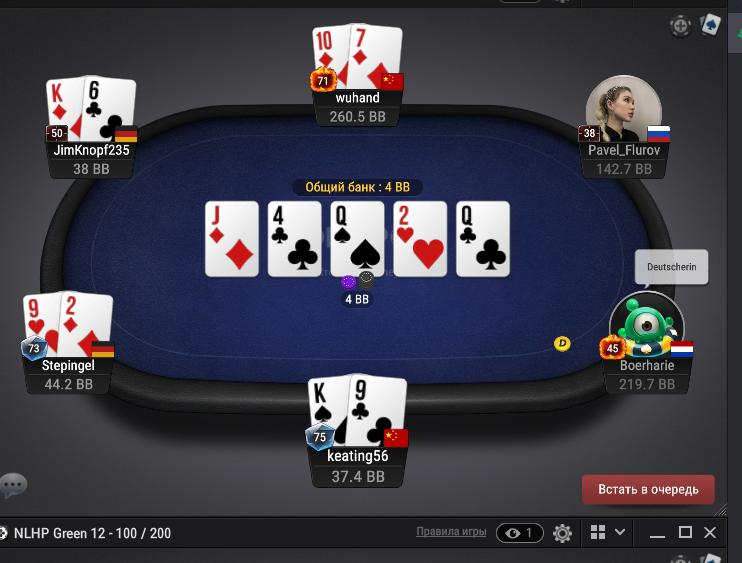10d: (310, 25, 350, 90)
2d: (61, 290, 112, 360)
2h: (394, 201, 449, 276)
4c: (269, 202, 321, 279)
6c: (83, 76, 135, 142)
7d: (349, 23, 402, 92)
9c: (351, 373, 407, 451)
9h: (22, 293, 59, 357)
Jd: (205, 202, 259, 277)
Kd: (46, 76, 83, 141)
Ks: (308, 377, 351, 445)
Qc: (456, 201, 511, 279)
Qs: (330, 202, 386, 276)
